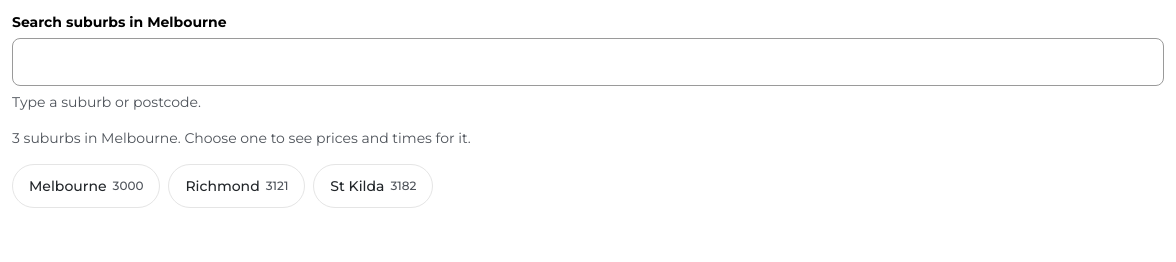
Scenario: CitySuburbs › choosing a suburb sets the area from its postcode
Click the button "Richmond 3121" at (237, 186), box [168,164,305,208]
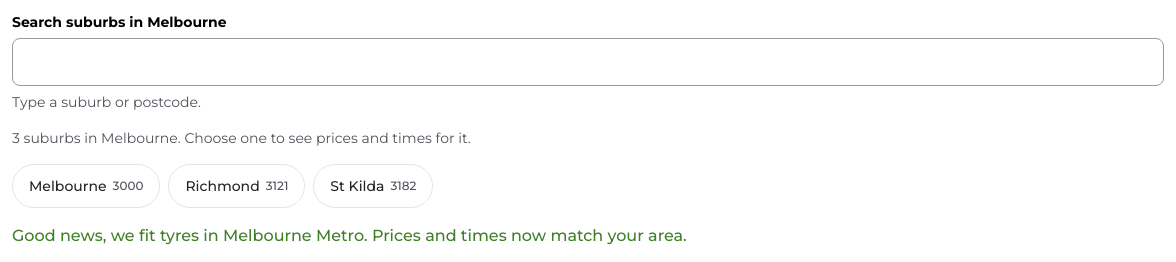
Expected: the text "we fit tyres in Melbourne Metro" is shown, [12,226,687,245]
